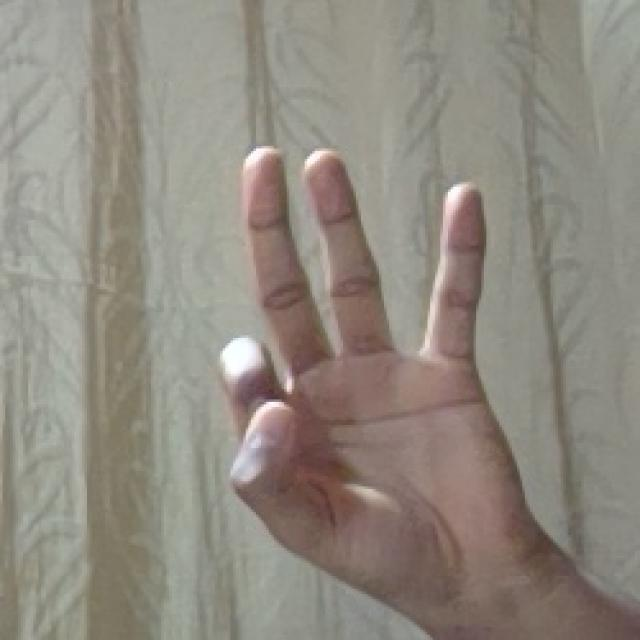Numeric-9: (210, 140, 507, 590), (554, 475, 556, 475)
